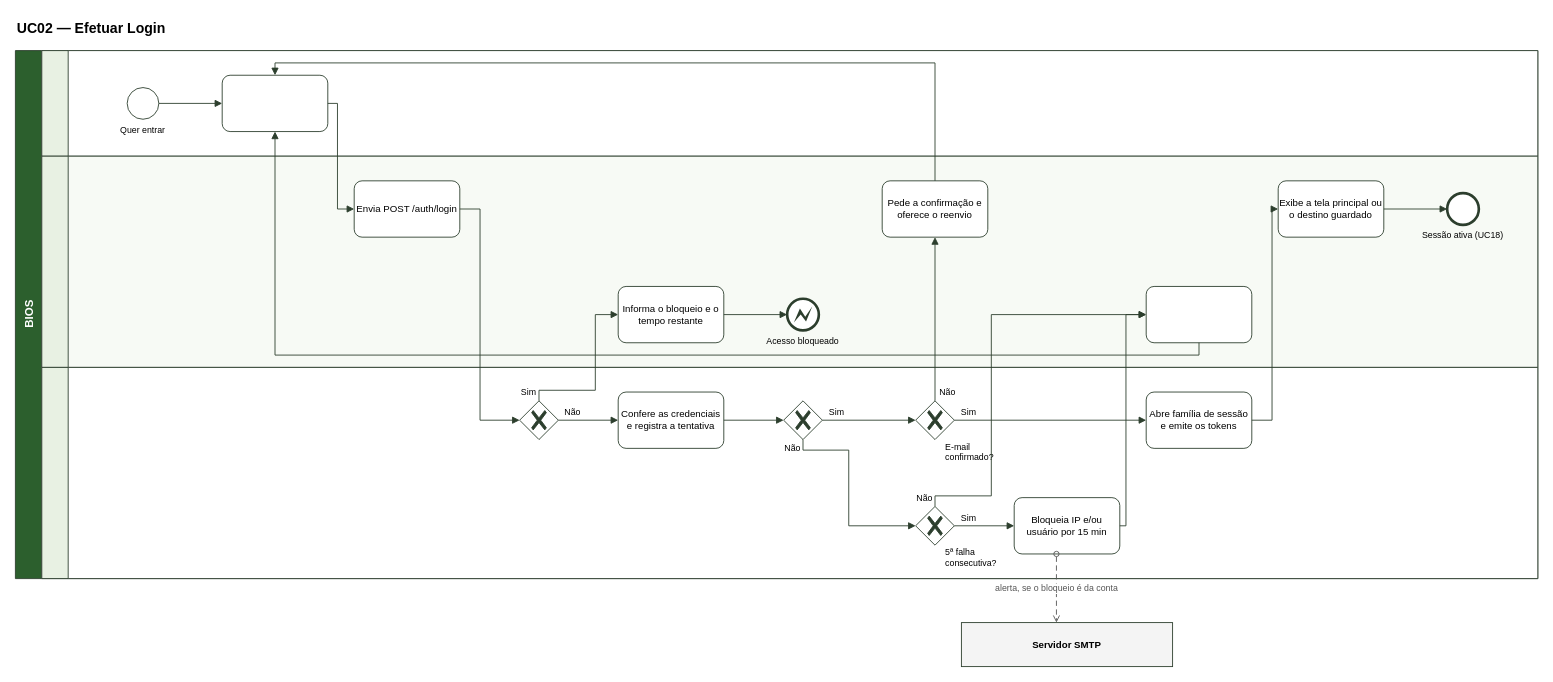
This 1553x682 diagram has some shape labels left out. The box of each missing label's shape, as (x1, y1, x2, y2) in pixels:
bios-core-api: (41, 367, 1538, 579)
Front-end BIOS: (41, 155, 1538, 367)
Informa e-mail e senha: (221, 74, 328, 132)
IP ou usuário bloqueado?: (519, 400, 558, 440)
Mensagem genérica de credenciais inválidas: (1145, 286, 1252, 343)
Senha confere?: (783, 400, 822, 440)
Usuário: (41, 50, 1538, 156)
